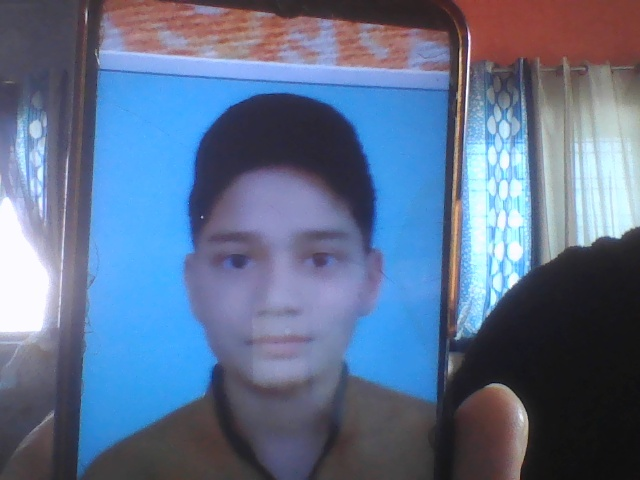fake: (166, 90, 397, 418)
